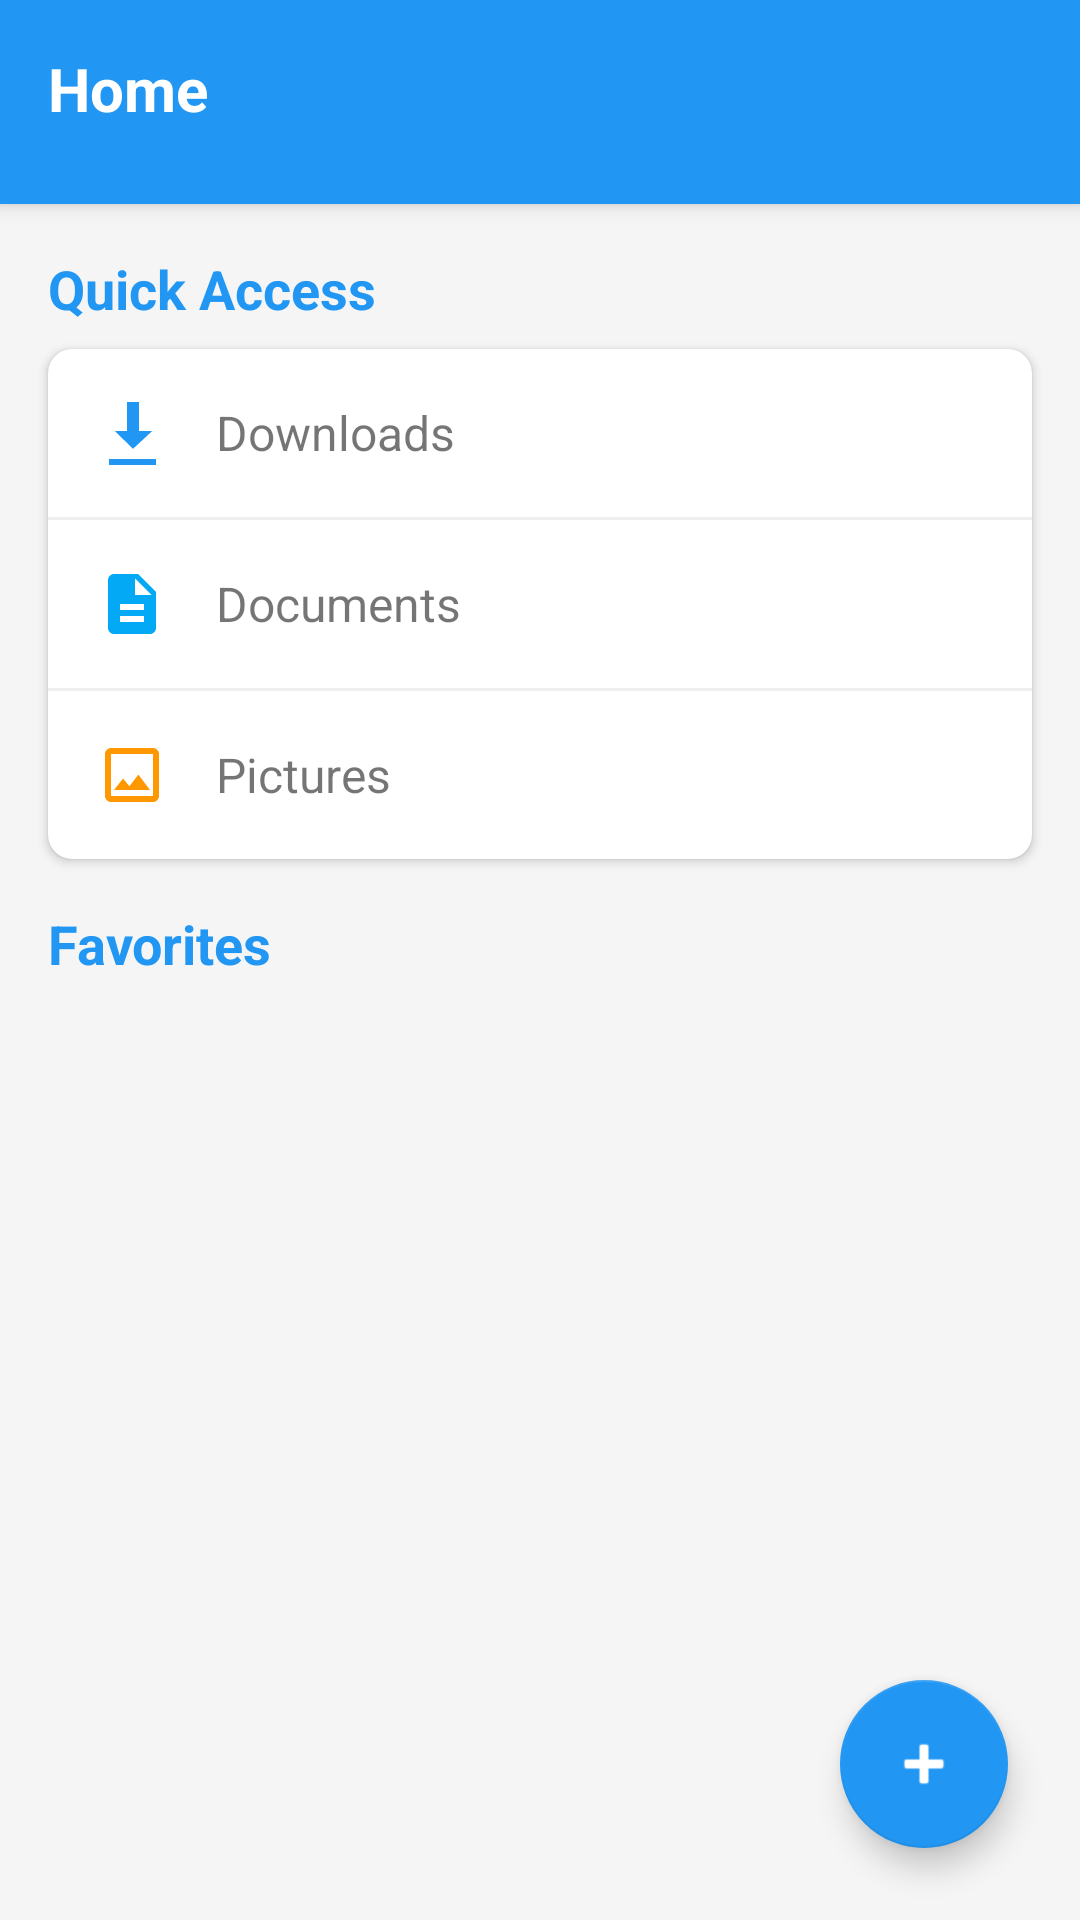

Icon bounding boxes for this 1080 x 1920 phone screenshot, format (x1, y1, x2, y2):
Add: (840, 1680, 1008, 1848)
document file: (108, 574, 156, 634)
